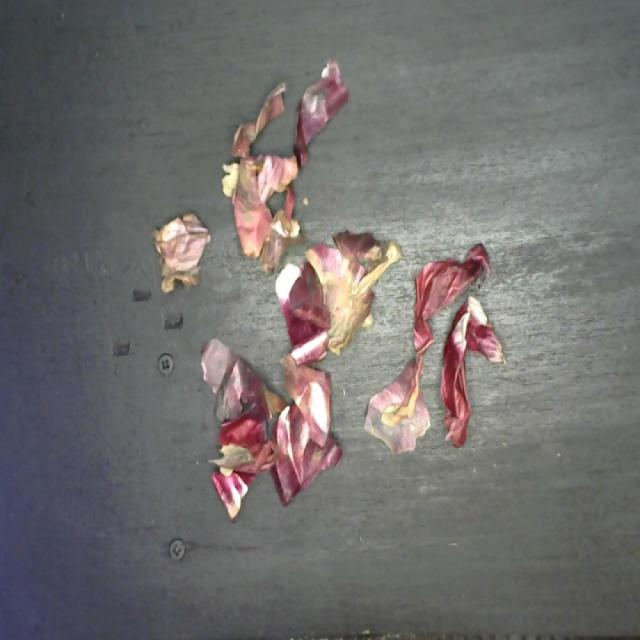biodegradable: (144, 50, 514, 528)
